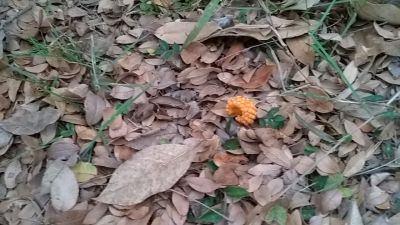eggs: (224, 98, 257, 123)
